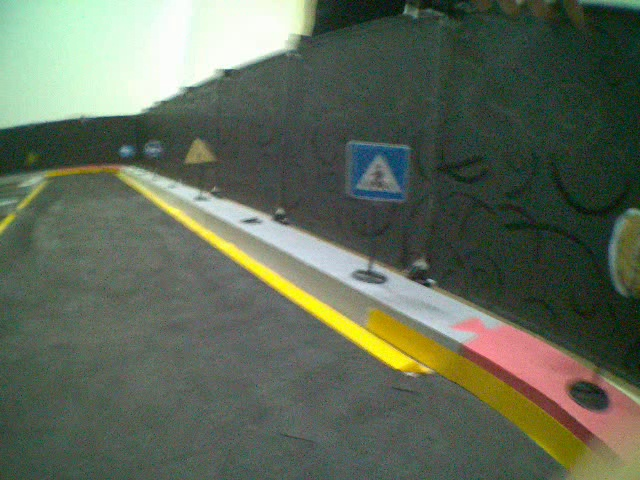crossing: (340, 140, 410, 201)
